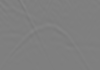hyperbola: (9, 21, 88, 62)
